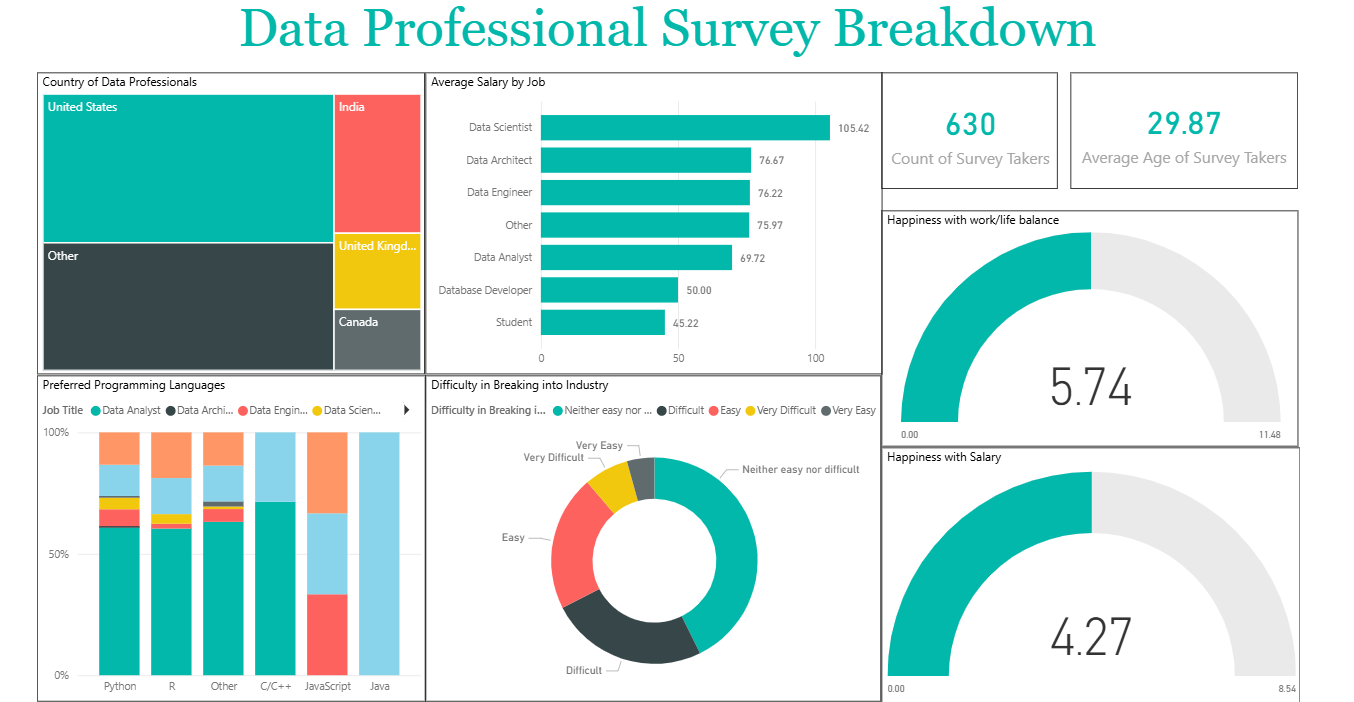

The dashboard page shown, as its layout file describes it:
{"tool":"powerbi","page":{"name":"Page 1","canvas":[1280,720],"ordinal":0},"visuals":[{"type":"textbox","box":[0,0,1278.8,80.9],"z":0},{"type":"treemap","title":"Country of Data Professionals","fields":{"Group":["Data Professional Survey.Country"],"Values":["CountNonNull(Data Professional Survey.Job Title)"]},"box":[0,81,393.5,306],"z":1000},{"type":"barChart","title":"Average Salary by Job","fields":{"Y":["Avg(Data Professional Survey.Salary)"],"Category":["Data Professional Survey.Job Title"]},"box":[393.5,81,463.1,306],"z":2000},{"type":"card","fields":{"Values":["Count(Data Professional Survey)"]},"box":[856.9,80.8,178.4,117.8],"z":3000},{"type":"card","fields":{"Values":["Avg(Data Professional Survey.Age)"]},"box":[1048.8,80.8,230.6,117.8],"z":4000},{"type":"hundredPercentStackedColumnChart","title":"Preferred Programming Languages","fields":{"Category":["Data Professional Survey.Favourite Programming Language"],"Series":["Data Professional Survey.Job Title"],"Y":["CountNonNull(Data Professional Survey.ID)"]},"box":[0,388.5,393.9,330.9],"z":5000},{"type":"donutChart","title":"Difficulty in Breaking into Industry","fields":{"Category":["Data Professional Survey.Difficulty in Breaking into the industry"],"Y":["CountNonNull(Data Professional Survey.Job Title)"]},"box":[393.9,388.5,462.2,330.9],"z":6000},{"type":"gauge","fields":{"Y":["Avg(Data Professional Survey.Happy with work/life balance)"]},"box":[856.1,221.2,422.7,239.2],"z":7000},{"type":"gauge","fields":{"Y":["Avg(Data Professional Survey.Happy with Salary)"]},"box":[856.1,460.4,424.5,259],"z":8000},{"type":"textbox","box":[100,100,300,300],"z":8001},{"type":"textbox","box":[100,100,300,300],"z":8002}]}

Visuals, with their boxes in screenshot pixels (x1, y1, x2, y2):
textbox: [left=28, top=0, right=1302, bottom=67]
"Country of Data Professionals" treemap: [left=28, top=67, right=420, bottom=372]
"Average Salary by Job" barChart: [left=420, top=67, right=882, bottom=372]
card - Count(Data Professional Survey): [left=882, top=66, right=1060, bottom=184]
card - Avg(Data Professional Survey.Age): [left=1073, top=66, right=1303, bottom=184]
"Preferred Programming Languages" hundredPercentStackedColumnChart: [left=28, top=373, right=421, bottom=701]
"Difficulty in Breaking into Industry" donutChart: [left=421, top=373, right=881, bottom=701]
gauge - Avg(Data Professional Survey.Happy with work/life balance): [left=881, top=206, right=1302, bottom=445]
gauge - Avg(Data Professional Survey.Happy with Salary): [left=881, top=445, right=1304, bottom=701]
textbox: [left=128, top=86, right=427, bottom=384]
textbox: [left=128, top=86, right=427, bottom=384]
